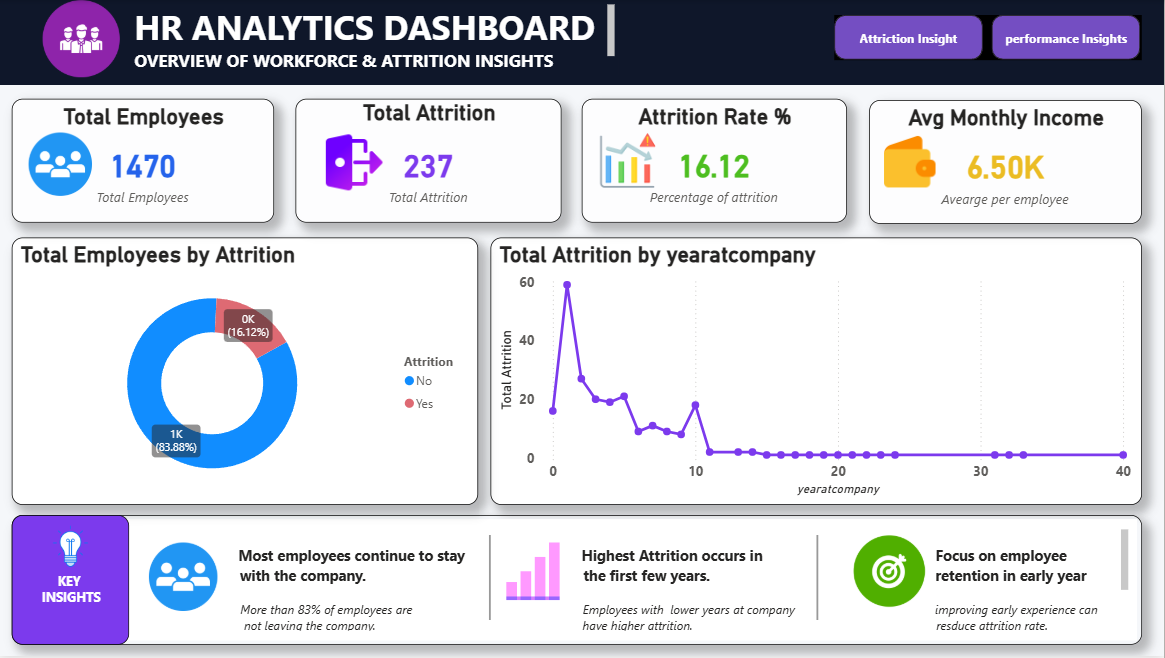

This screenshot's page, from the dashboard's own definition file:
{"tool":"powerbi","page":{"name":"Overview","canvas":[1280,720],"ordinal":0},"visuals":[{"type":"shape","box":[0,0,1280.3,93.3],"z":0,"group":"g9"},{"type":"group","id":"g1","title":"Group 3","box":[326.6,108.4,605.1,135.8],"z":0,"group":"g4"},{"type":"lineChart","fields":{"Y":["HR DATA CLEANED xlsx.Total Attrition"],"Category":["HR DATA CLEANED xlsx.YearsAtCompany"]},"box":[540.7,260.7,714.9,293.7],"z":0},{"type":"group","id":"g2","title":"Group 5","box":[9.6,108.4,293.7,135.8],"z":1000,"group":"g4"},{"type":"card","title":"Total Employees","fields":{"Values":["HR DATA CLEANED xlsx.Total Employees"]},"box":[15.1,108.4,288.2,135.8],"z":1000,"group":"g2"},{"type":"shape","box":[15.1,565.4,1240.5,142.7],"z":1000},{"type":"textbox","box":[144.1,0,537.9,82.3],"z":2000,"group":"g9"},{"type":"shape","box":[516,595.5,49.4,82.3],"z":2000},{"type":"card","title":"Total Attrition","fields":{"Values":["HR DATA CLEANED xlsx.Total Attrition"]},"box":[326.6,108.4,292.3,135.8],"z":3000,"group":"g1"},{"type":"shape","box":[879.6,595.5,38.4,82.3],"z":3000},{"type":"card","title":"Attrition Rate %","fields":{"Values":["HR DATA CLEANED xlsx.Attrition rate"]},"box":[640.9,108.4,290.9,135.8],"z":4000,"group":"g8"},{"type":"donutChart","fields":{"Category":["HR DATA CLEANED xlsx.Attrition"],"Y":["HR DATA CLEANED xlsx.Total Employees"]},"box":[15.1,260.7,511.8,293.7],"z":4000},{"type":"group","id":"g3","title":"Group 1","box":[931.7,109.8,323.8,135.8],"z":5000},{"type":"card","title":"Avg Monthly Income","fields":{"Values":["HR DATA CLEANED xlsx.Average Monthly Incomne"]},"box":[956.4,109.8,299.1,135.8],"z":5000,"group":"g3"},{"type":"group","id":"g4","title":"Group 4","box":[9.6,108.4,922.1,135.8],"z":6000},{"type":"group","id":"g5","title":"Group 6","box":[0,0,1280.3,93.3],"z":7000},{"type":"group","id":"g6","title":"Group 7","box":[144.1,576.3,1101.9,120.8],"z":8000},{"type":"group","id":"g7","title":"Group 9","box":[15.1,565.4,129,142.7],"z":9000},{"type":"textbox","box":[15.1,565.4,129,142.7],"z":9000,"group":"g7"},{"type":"textbox","box":[159.2,576.3,1086.8,120.8],"z":10000,"group":"g6"},{"type":"shape","box":[408.9,587.3,262.1,93.3],"z":10000},{"type":"shape","box":[768.4,587.3,262.1,93.3],"z":11000},{"type":"pageNavigator","box":[918,16.5,337.6,49.4],"z":12000},{"type":"image","box":[539.3,595.5,96.1,63.1],"z":13000,"group":"g6"},{"type":"image","box":[918,587.3,120.8,79.6],"z":14000,"group":"g6"},{"type":"image","box":[31.6,576.4,96.1,46.7],"z":15000,"group":"g7"},{"type":"image","box":[931.7,142.7,138.6,70],"z":16000,"group":"g3"},{"type":"image","box":[618.9,145.4,145.5,61.7],"z":17000,"group":"g8"},{"type":"image","box":[326.6,145.4,129,65.9],"z":18000,"group":"g1"},{"type":"image","box":[9.6,145.4,118,70],"z":19000,"group":"g2"},{"type":"image","box":[144.1,595.5,118,75.5],"z":20000,"group":"g6"},{"type":"image","box":[23.3,0,135.8,85.1],"z":21000,"group":"g9"},{"type":"group","id":"g8","title":"Group 2","box":[618.9,108.4,312.9,135.8],"z":21003,"group":"g1"},{"type":"group","id":"g9","title":"Group 8","box":[0,0,1280.3,93.3],"z":21007,"group":"g5"}]}

Visuals, with their boxes in screenshot pixels (x1, y1, x2, y2), scaled from the page's 1280x720 canvas onto the 1165x658 screenshot:
shape: {"x1": 0, "y1": 0, "x2": 1164, "y2": 85}
"Group 3" group: {"x1": 297, "y1": 99, "x2": 848, "y2": 223}
lineChart - HR DATA CLEANED xlsx.Total Attrition x HR DATA CLEANED xlsx.YearsAtCompany: {"x1": 492, "y1": 238, "x2": 1143, "y2": 507}
"Group 5" group: {"x1": 9, "y1": 99, "x2": 276, "y2": 223}
"Total Employees" card: {"x1": 14, "y1": 99, "x2": 276, "y2": 223}
shape: {"x1": 14, "y1": 517, "x2": 1143, "y2": 647}
textbox: {"x1": 131, "y1": 0, "x2": 621, "y2": 75}
shape: {"x1": 470, "y1": 544, "x2": 515, "y2": 619}
"Total Attrition" card: {"x1": 297, "y1": 99, "x2": 563, "y2": 223}
shape: {"x1": 801, "y1": 544, "x2": 836, "y2": 619}
"Attrition Rate %" card: {"x1": 583, "y1": 99, "x2": 848, "y2": 223}
donutChart - HR DATA CLEANED xlsx.Attrition x HR DATA CLEANED xlsx.Total Employees: {"x1": 14, "y1": 238, "x2": 480, "y2": 507}
"Group 1" group: {"x1": 848, "y1": 100, "x2": 1143, "y2": 224}
"Avg Monthly Income" card: {"x1": 870, "y1": 100, "x2": 1143, "y2": 224}
"Group 4" group: {"x1": 9, "y1": 99, "x2": 848, "y2": 223}
"Group 6" group: {"x1": 0, "y1": 0, "x2": 1164, "y2": 85}
"Group 7" group: {"x1": 131, "y1": 527, "x2": 1134, "y2": 637}
"Group 9" group: {"x1": 14, "y1": 517, "x2": 131, "y2": 647}
textbox: {"x1": 14, "y1": 517, "x2": 131, "y2": 647}
textbox: {"x1": 145, "y1": 527, "x2": 1134, "y2": 637}
shape: {"x1": 372, "y1": 537, "x2": 611, "y2": 622}
shape: {"x1": 699, "y1": 537, "x2": 938, "y2": 622}
pageNavigator: {"x1": 836, "y1": 15, "x2": 1143, "y2": 60}
image: {"x1": 491, "y1": 544, "x2": 578, "y2": 602}
image: {"x1": 836, "y1": 537, "x2": 945, "y2": 609}
image: {"x1": 29, "y1": 527, "x2": 116, "y2": 569}
image: {"x1": 848, "y1": 130, "x2": 974, "y2": 194}
image: {"x1": 563, "y1": 133, "x2": 696, "y2": 189}
image: {"x1": 297, "y1": 133, "x2": 415, "y2": 193}
image: {"x1": 9, "y1": 133, "x2": 116, "y2": 197}
image: {"x1": 131, "y1": 544, "x2": 239, "y2": 613}
image: {"x1": 21, "y1": 0, "x2": 145, "y2": 78}
"Group 2" group: {"x1": 563, "y1": 99, "x2": 848, "y2": 223}
"Group 8" group: {"x1": 0, "y1": 0, "x2": 1164, "y2": 85}
